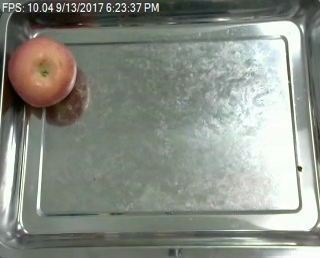Apple: (6, 35, 78, 106)
